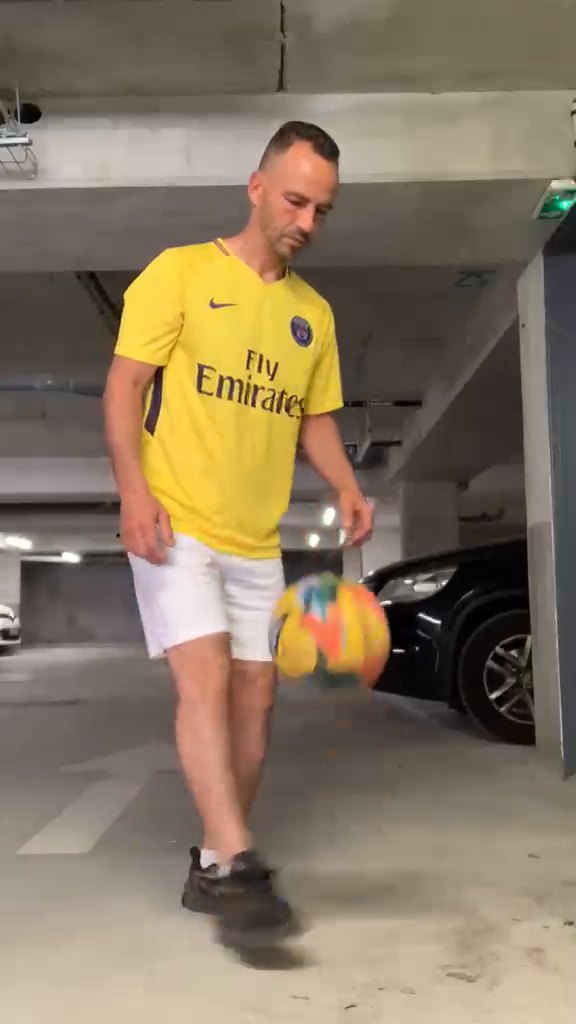ball: (268, 571, 391, 694)
